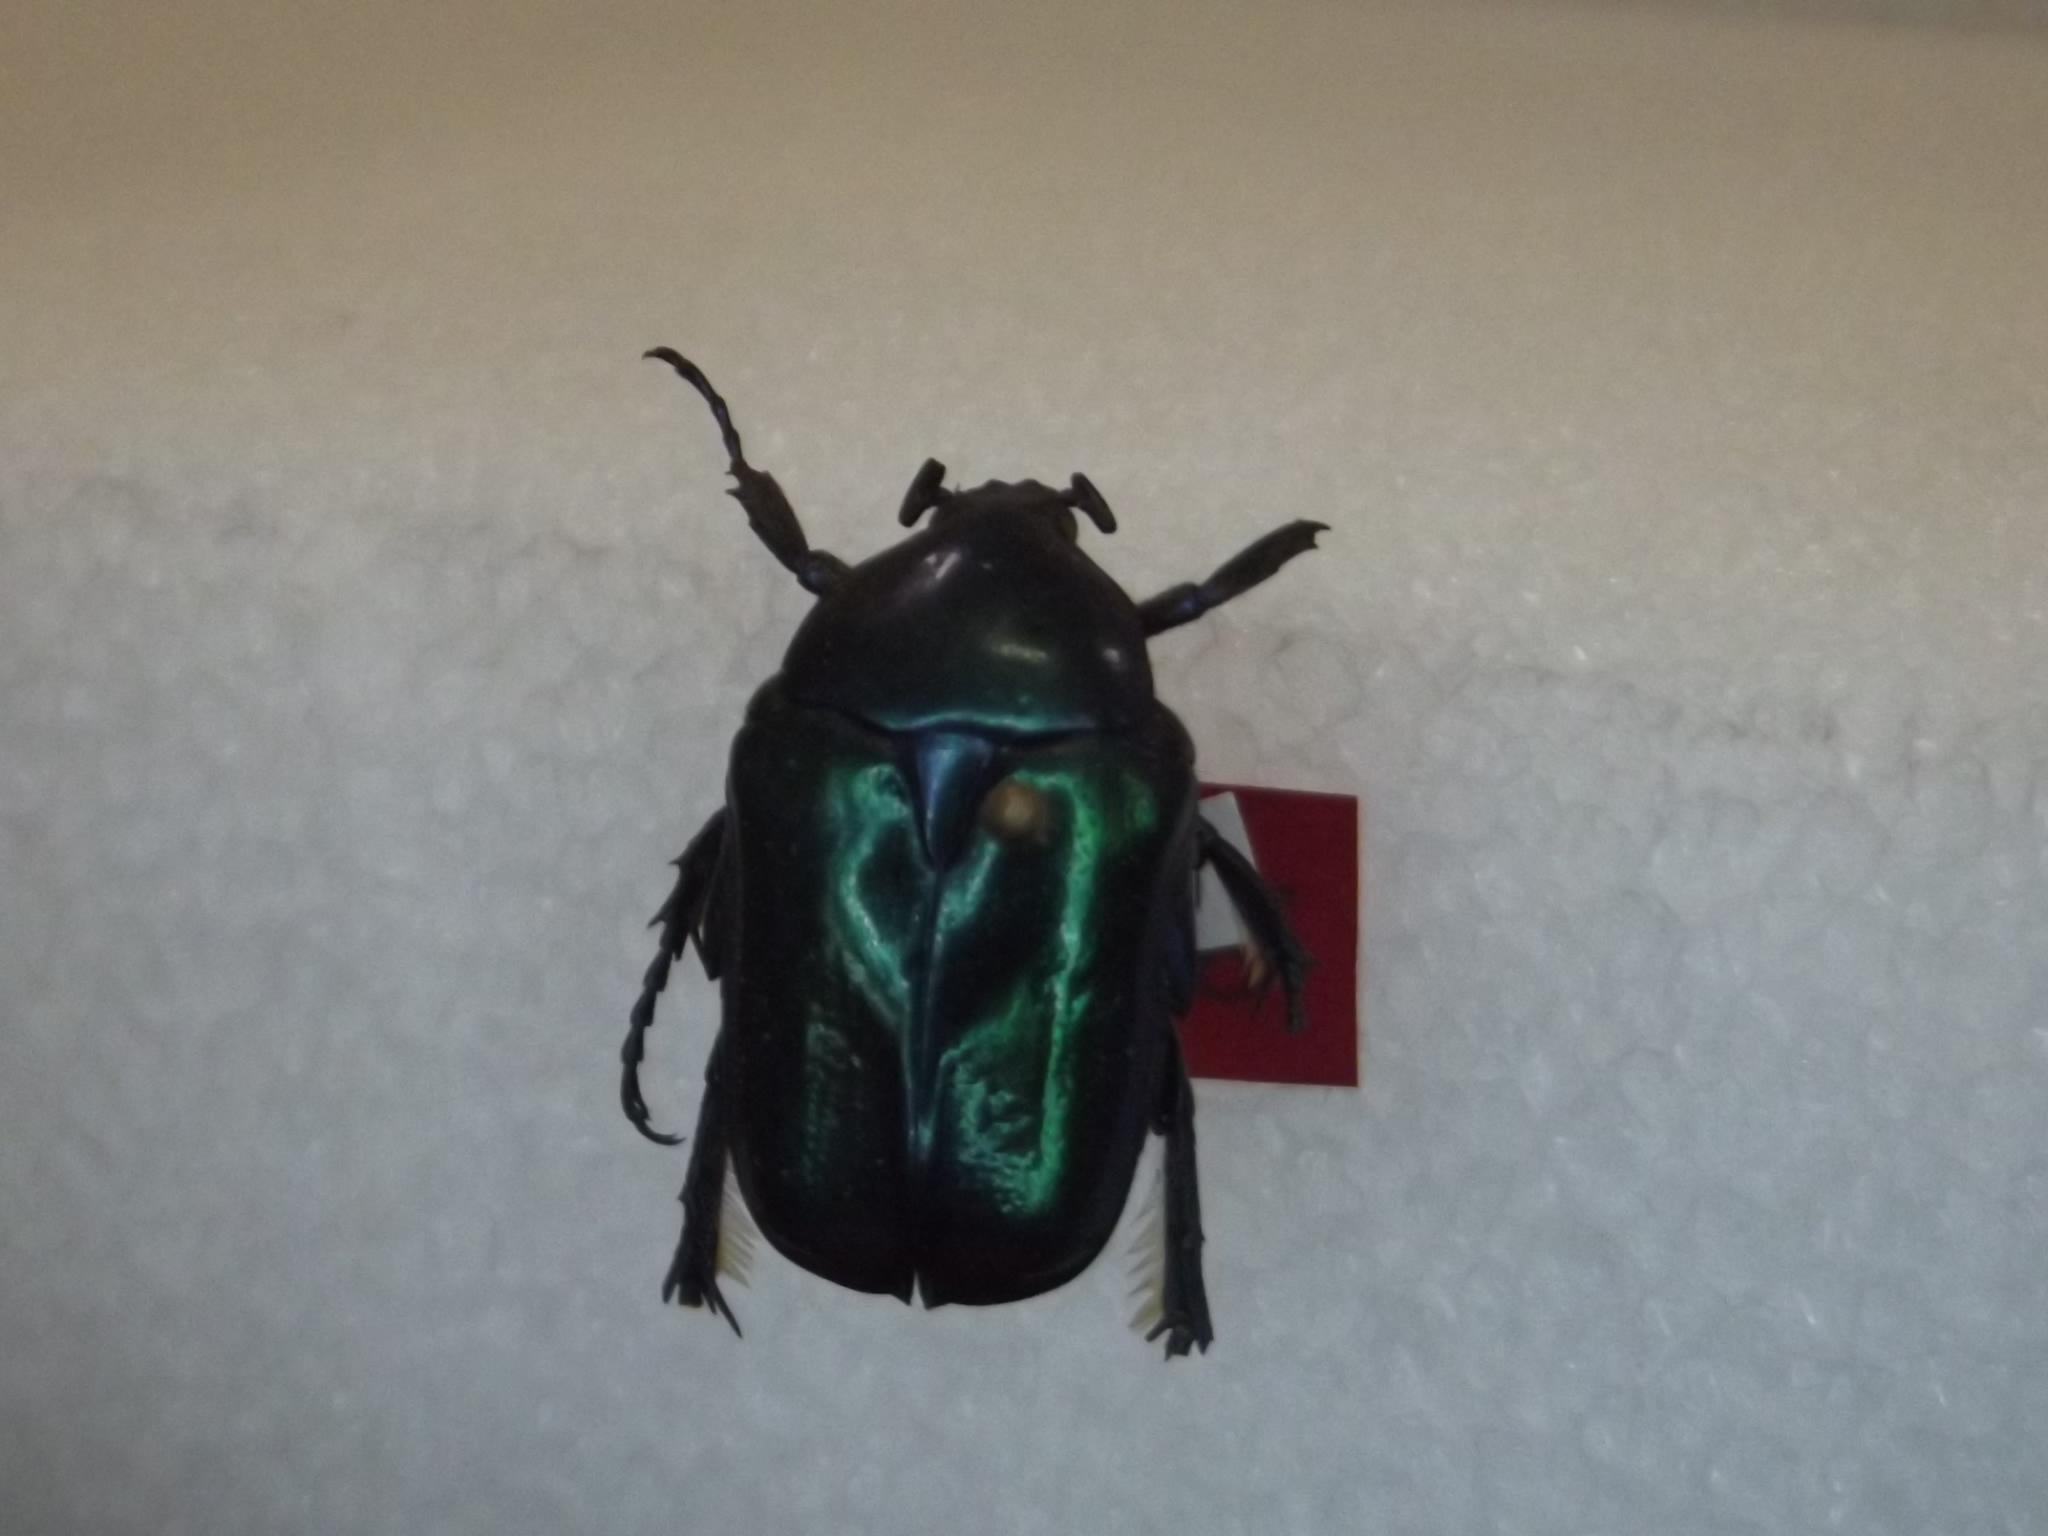Protaetia_besucheti: (590, 310, 1364, 1400)
